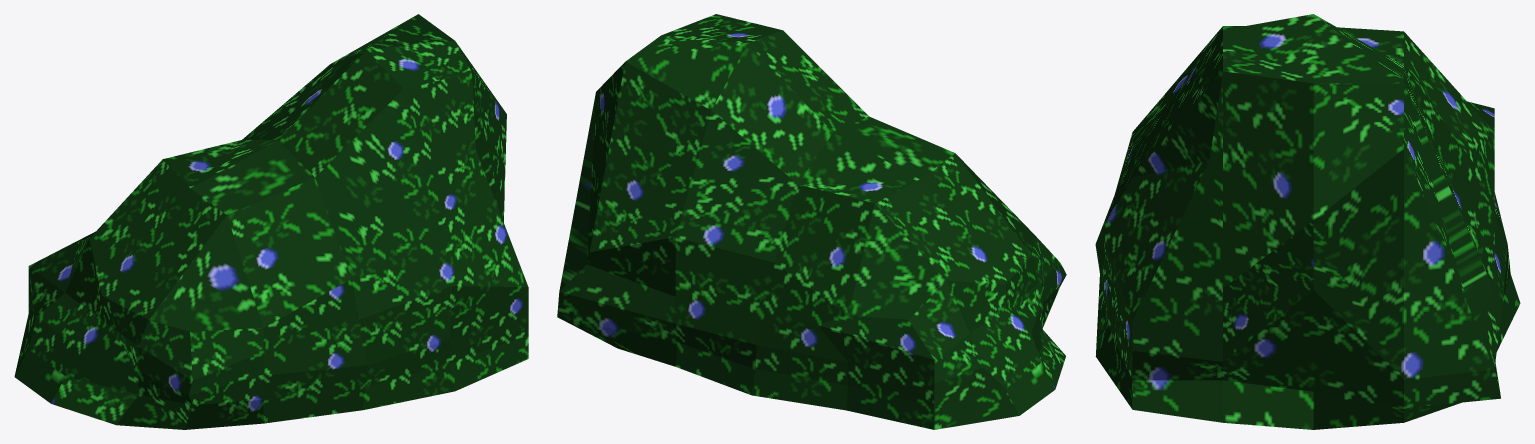
Rendered from Arbusto Grande.fbx.
3 views of the same model, side by side, from view 1: azimuth 30°, elevation 25°; view 2: azimuth 150°, elevation 25°; view 3: azimuth 270°, elevation 25° (orthographic). The views are drawn at different scales.
Visible parts, largest first — view 1: Cube; view 2: Cube; view 3: Cube.
Boxes of the visible parts, <box> form: Cube: <box>14,14,528,429</box>; Cube: <box>557,14,1066,429</box>; Cube: <box>1095,14,1520,429</box>.
Bounding box in the file's own units: 997 × 652 × 580.
Materials: 1 (1 with a texture image).
